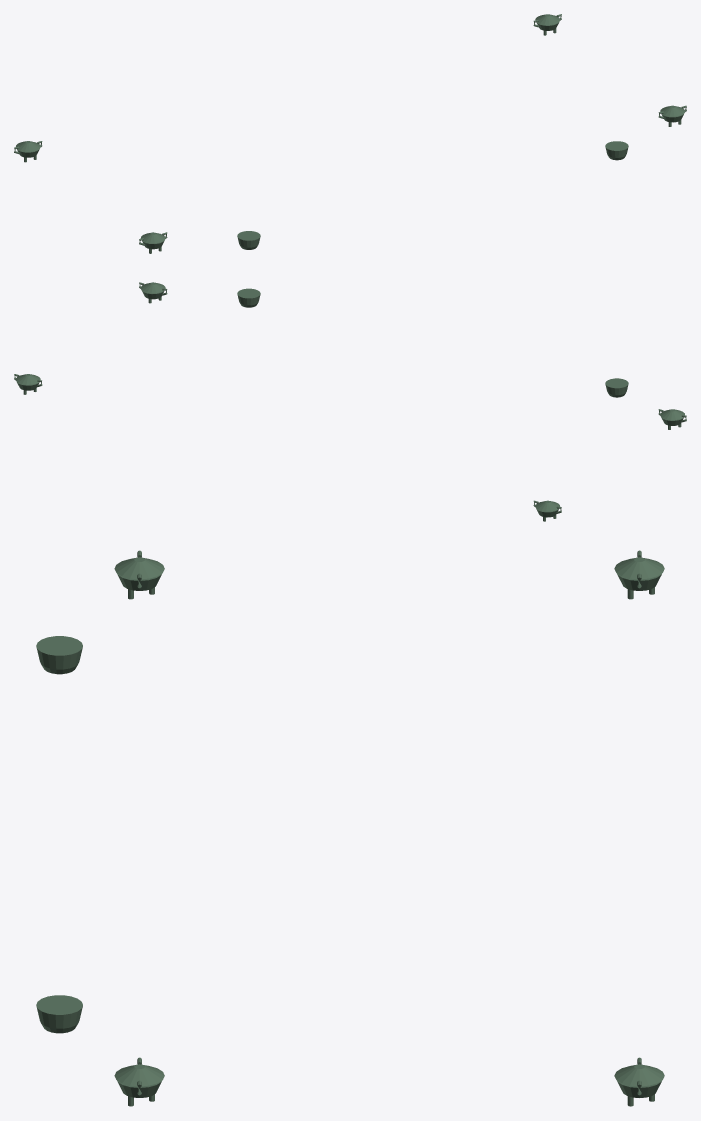
Rendered from SM_17_bronze.fbx.
3 renders of one model, top to bottom at view 1: azimuth 30°, elevation 25°; view 2: azimuth 150°, elevation 25°; view 3: azimuth 270°, elevation 25°, orthographic. The views are drawn at different scales.
Parts seen in each view (by area): view 1: bronze; view 2: bronze; view 3: bronze.
Part boxes in pixels (<box>): bronze: <box>14,14,686,253</box>; bronze: <box>14,282,686,521</box>; bronze: <box>36,550,664,1106</box>.
Bounding box in the file's own units: 5060 × 2515 × 149.
